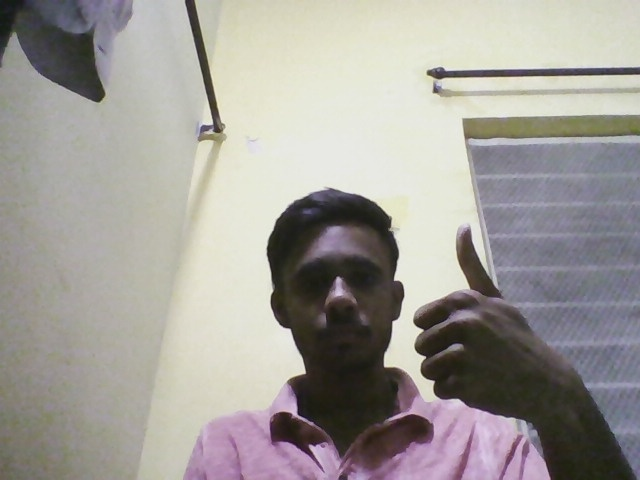yes: (410, 217, 590, 417)
